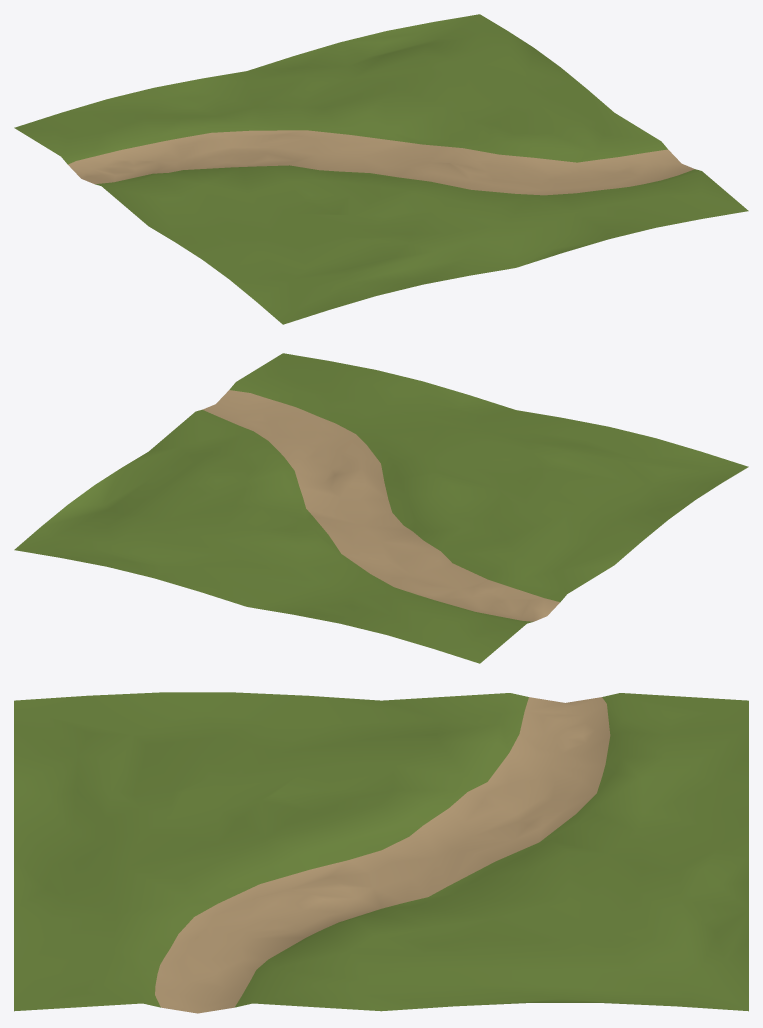
The model's file is rpgpp_ag_terrain_path_07_20x20m.fbx.
3 views of the same model, one above another, from view 1: azimuth 30°, elevation 25°; view 2: azimuth 150°, elevation 25°; view 3: azimuth 270°, elevation 25° (orthographic). The views are drawn at different scales.
Visible parts, largest first — view 1: rpgpp_ag_terrain_path_07_20x20m; view 2: rpgpp_ag_terrain_path_07_20x20m; view 3: rpgpp_ag_terrain_path_07_20x20m.
Part boxes in pixels (x1,y1,x2,y2): rpgpp_ag_terrain_path_07_20x20m: [14, 14, 748, 324]; rpgpp_ag_terrain_path_07_20x20m: [14, 353, 748, 663]; rpgpp_ag_terrain_path_07_20x20m: [14, 692, 748, 1013].
Bounding box in the file's own units: 20 × 0.5058 × 20.
